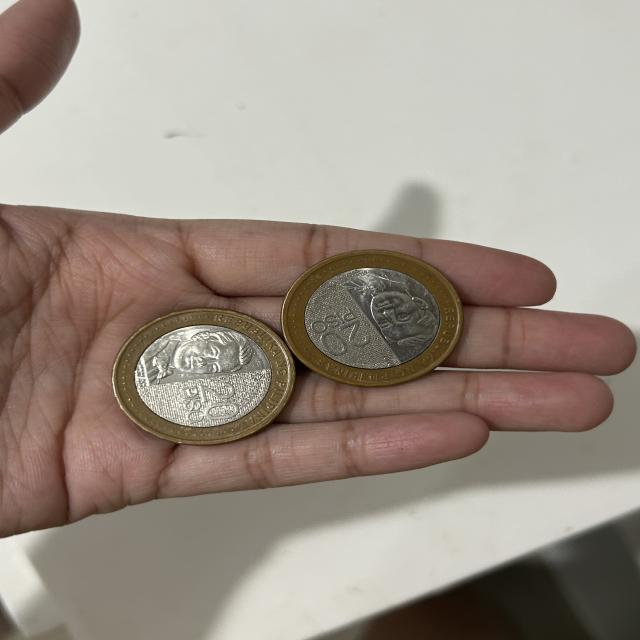20_New_Front: (306, 308, 373, 359), (178, 382, 247, 424)
